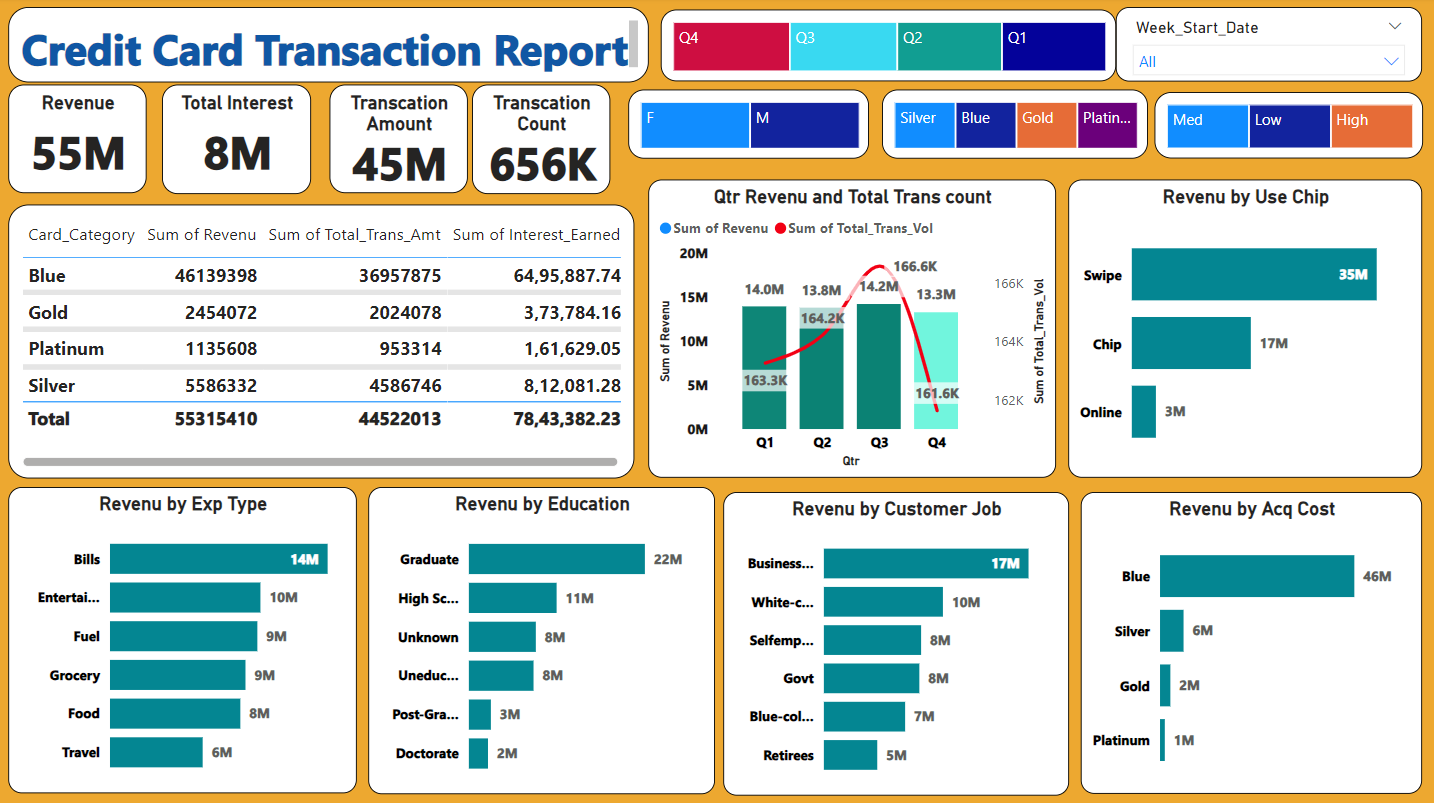

Layout of this report page (visuals, bound fields, positions):
{"tool":"powerbi","page":{"name":"Page 2","canvas":[1280,720],"ordinal":0},"visuals":[{"type":"textbox","box":[9.7,8.4,570.6,67.6],"z":0},{"type":"lineStackedColumnComboChart","title":"Qtr Revenu and Total Trans count","fields":{"Category":["credit_card.Qtr"],"Y":["Sum(credit_card.Revenu)"],"Y2":["Sum(credit_card.Total_Trans_Vol)"]},"box":[580.3,162.9,363.1,265.4],"z":1000},{"type":"barChart","title":"Revenu by Exp Type","fields":{"Y":["Sum(credit_card.Revenu)"],"Category":["credit_card.Exp Type"]},"box":[9.7,436.7,310.1,272.7],"z":2000},{"type":"barChart","title":"Revenu by Education","fields":{"Y":["Sum(credit_card.Revenu)"],"Category":["customer.Education_Level"]},"box":[330.6,436.7,308.8,273.9],"z":3000},{"type":"barChart","title":"Revenu by Customer Job","fields":{"Y":["Sum(credit_card.Revenu)"],"Category":["customer.Customer_Job"]},"box":[646.7,440.4,307.6,270.2],"z":4000},{"type":"barChart","title":"Revenu by Acq Cost","fields":{"Y":["Sum(credit_card.Revenu)"],"Category":["credit_card.Card_Category"]},"box":[965.2,440.4,304,269],"z":5000},{"type":"barChart","title":"Revenu by Use Chip","fields":{"Y":["Sum(credit_card.Revenu)"],"Category":["credit_card.Use Chip"]},"box":[954.3,162.9,314.9,265.4],"z":6000},{"type":"tableEx","fields":{"Values":["credit_card.Card_Category","Sum(credit_card.Revenu)","Sum(credit_card.Total_Trans_Amt)","Sum(credit_card.Interest_Earned)"]},"box":[9.7,184.6,557.4,243.7],"z":7000},{"type":"card","title":"Revenue","fields":{"Values":["Sum(credit_card.Revenu)"]},"box":[9.7,78.4,123.1,96.5],"z":8000},{"type":"card","title":"Total Interest","fields":{"Values":["Sum(credit_card.Interest_Earned)"]},"box":[147.2,78.4,132.7,97.7],"z":9000},{"type":"card","title":"Transcation Amount","fields":{"Values":["Sum(credit_card.Total_Trans_Amt)"]},"box":[295.6,78.4,123.1,96.5],"z":10000},{"type":"card","title":"Transcation Count","fields":{"Values":["Sum(credit_card.Total_Trans_Vol)"]},"box":[423.5,78.4,123.1,97.7],"z":11000},{"type":"slicer","fields":{"Values":["credit_card.Week_Start_Date"]},"box":[996.5,8.4,272.7,66.4],"z":12000},{"type":"treemap","fields":{"Group":["credit_card.Qtr"],"Values":["Avg(credit_card.Client_Num)"]},"box":[591.2,10.9,405.4,63.9],"z":13000},{"type":"treemap","fields":{"Group":["customer.Gender"],"Values":["Avg(credit_card.Client_Num)"]},"box":[562.2,82,214.7,61.5],"z":14000},{"type":"treemap","fields":{"Values":["Avg(credit_card.Client_Num)"],"Group":["customer.IncomeGroup"]},"box":[1030.3,84.5,238.9,59.1],"z":15000},{"type":"treemap","fields":{"Values":["Avg(credit_card.Client_Num)"],"Group":["credit_card.Card_Category"]},"box":[787.8,82,236.5,61.5],"z":16000}]}

Visuals, with their boxes in screenshot pixels (x1, y1, x2, y2), scaled from the page's 1280x720 canvas onto the 1434x803 screenshot:
textbox: crop(11, 9, 650, 85)
"Qtr Revenu and Total Trans count" lineStackedColumnComboChart: crop(650, 182, 1057, 478)
"Revenu by Exp Type" barChart: crop(11, 487, 358, 791)
"Revenu by Education" barChart: crop(370, 487, 716, 793)
"Revenu by Customer Job" barChart: crop(725, 491, 1069, 793)
"Revenu by Acq Cost" barChart: crop(1081, 491, 1422, 791)
"Revenu by Use Chip" barChart: crop(1069, 182, 1422, 478)
tableEx - credit_card.Card_Category x Sum(credit_card.Revenu): crop(11, 206, 635, 478)
"Revenue" card: crop(11, 87, 149, 195)
"Total Interest" card: crop(165, 87, 314, 196)
"Transcation Amount" card: crop(331, 87, 469, 195)
"Transcation Count" card: crop(474, 87, 612, 196)
slicer - credit_card.Week_Start_Date: crop(1116, 9, 1422, 83)
treemap - credit_card.Qtr x Avg(credit_card.Client_Num): crop(662, 12, 1117, 83)
treemap - customer.Gender x Avg(credit_card.Client_Num): crop(630, 91, 870, 160)
treemap - Avg(credit_card.Client_Num) x customer.IncomeGroup: crop(1154, 94, 1422, 160)
treemap - Avg(credit_card.Client_Num) x credit_card.Card_Category: crop(883, 91, 1148, 160)
